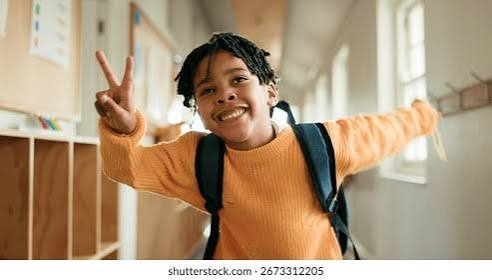peace_sign: (92, 45, 141, 131)
